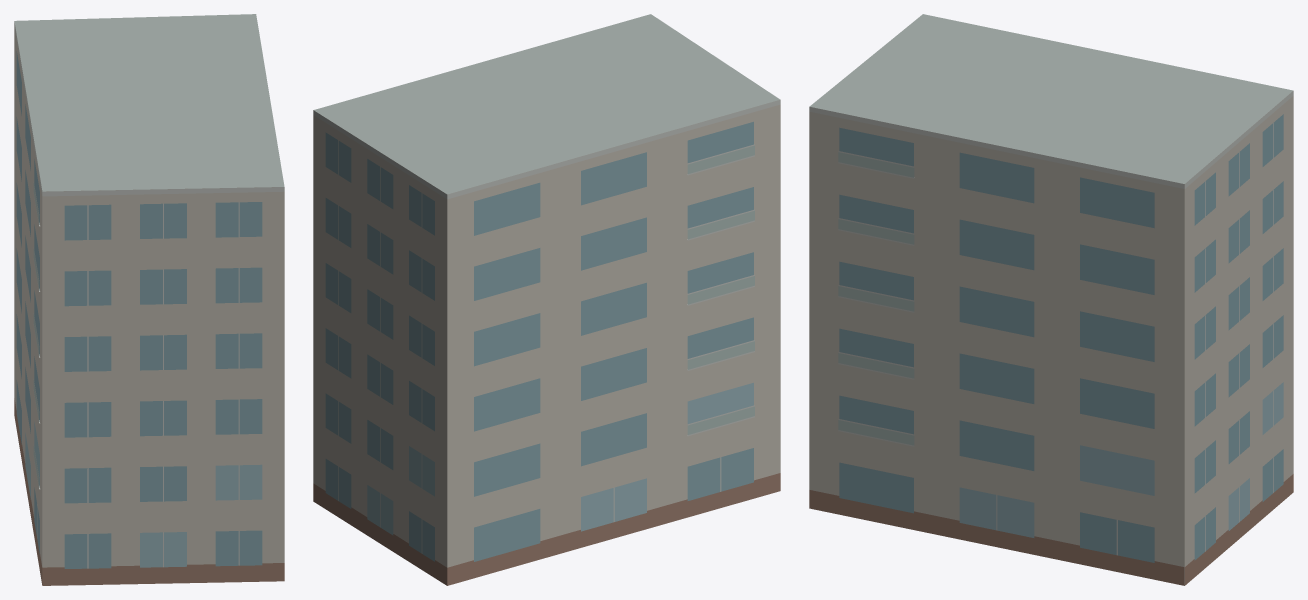
File: survey-upis-32524790.glb
3 views of the same model, side by side, from view 1: azimuth 30°, elevation 25°; view 2: azimuth 150°, elevation 25°; view 3: azimuth 270°, elevation 25° (orthographic). The views are drawn at different scales.
Visible parts, largest first — view 1: survey-upis-32524790.tmp; view 2: survey-upis-32524790.tmp; view 3: survey-upis-32524790.tmp.
Boxes of the visible parts, x1=… form: survey-upis-32524790.tmp: x1=14, y1=14, x2=284, y2=585; survey-upis-32524790.tmp: x1=313, y1=14, x2=780, y2=585; survey-upis-32524790.tmp: x1=809, y1=14, x2=1293, y2=585.
Size of the model in its own units: 17.84 by 19.63 by 21.45.
